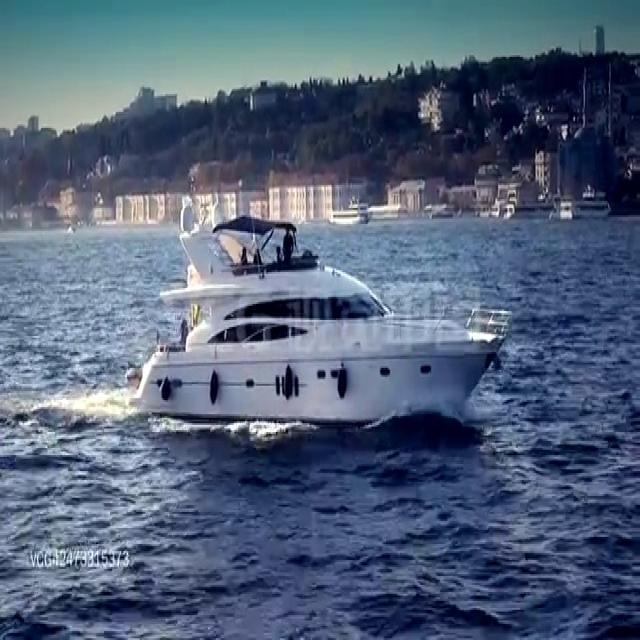houseboat: (136, 200, 500, 434)
